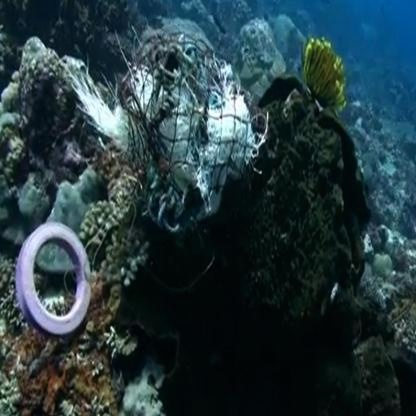net: (133, 61, 244, 242)
tire: (16, 212, 107, 371)
